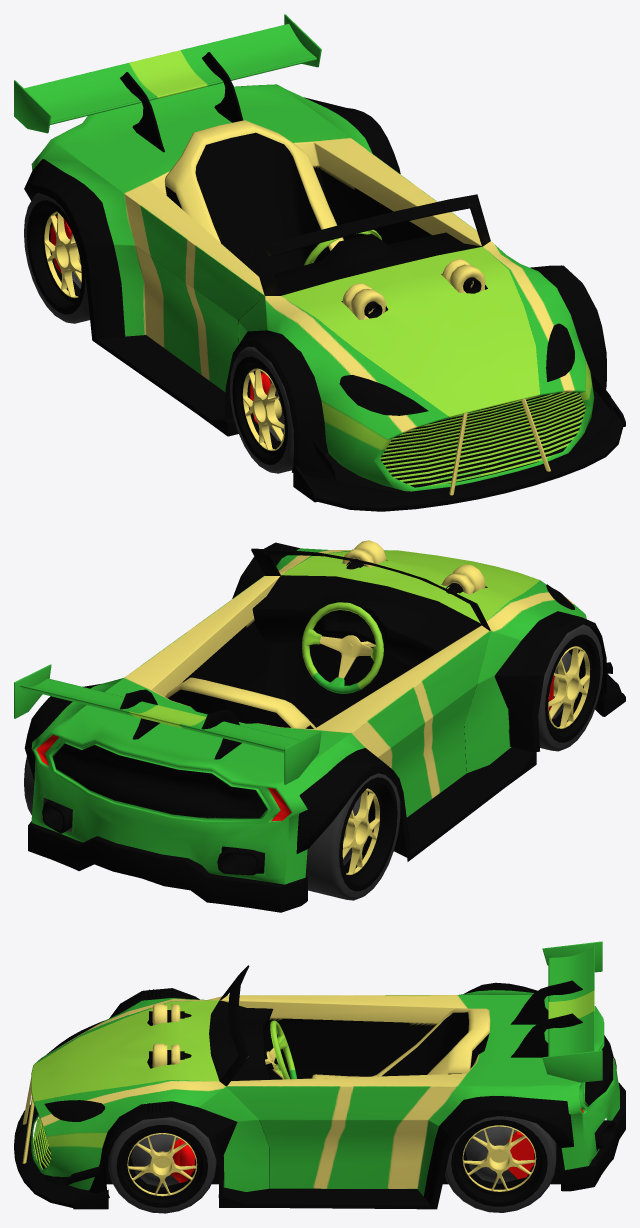
The model's file is Mobil_TimunMas_Fix.fbx.
3 renders of one model, top to bottom at view 1: azimuth 30°, elevation 25°; view 2: azimuth 150°, elevation 25°; view 3: azimuth 270°, elevation 25°, orthographic. The views are drawn at different scales.
Visible parts, largest first — view 1: body.005, hood, fender, seat, Wing, Fender_Kit_Rear, Fender_Kit_Front, Grill, Block_Grill, Front_Lips, fl.001, rr (+8 smaller); view 2: body.005, dasbor.002, body.003, rr, Wing, fender, hood, Fender_Kit_Front, fl.001, Fender_Kit_Rear, side skirt, seat (+5 smaller); view 3: body.005, fender, hood, Wing, rl, fl, Fender_Kit_Rear, seat, Fender_Kit_Front, side skirt, dasbor.002, Front_Lips (+10 smaller).
Part boxes in pixels (left/top/right/bottom): body.005: left=31, top=82, right=481, bottom=392; hood: left=281, top=246, right=539, bottom=417; fender: left=238, top=241, right=594, bottom=491; seat: left=164, top=120, right=343, bottom=276; Wing: left=14, top=14, right=321, bottom=152; Fender_Kit_Rear: left=24, top=97, right=400, bottom=342; Fender_Kit_Front: left=224, top=265, right=606, bottom=480; Grill: left=380, top=392, right=585, bottom=486; Block_Grill: left=380, top=392, right=585, bottom=487; Front_Lips: left=293, top=397, right=625, bottom=511; fl.001: left=230, top=346, right=293, bottom=473; rr: left=24, top=193, right=89, bottom=323; body.005: left=31, top=576, right=490, bottom=884; dasbor.002: left=252, top=575, right=481, bottom=667; body.003: left=28, top=821, right=307, bottom=912; rr: left=305, top=773, right=400, bottom=900; Wing: left=14, top=664, right=321, bottom=784; fender: left=276, top=548, right=586, bottom=772; hood: left=281, top=550, right=539, bottom=623; Fender_Kit_Front: left=232, top=542, right=606, bottom=752; fl.001: left=508, top=624, right=602, bottom=751; Fender_Kit_Rear: left=24, top=683, right=411, bottom=861; side skirt: left=394, top=747, right=536, bottom=858; seat: left=165, top=677, right=315, bottom=728; body.005: left=220, top=990, right=619, bottom=1195; fender: left=31, top=996, right=269, bottom=1191; hood: left=31, top=1000, right=219, bottom=1101; Wing: left=510, top=941, right=602, bottom=1082; rl: left=445, top=1116, right=556, bottom=1212; fl: left=108, top=1117, right=216, bottom=1213; Fender_Kit_Rear: left=423, top=982, right=573, bottom=1209; seat: left=311, top=1008, right=490, bottom=1078; Fender_Kit_Front: left=89, top=988, right=237, bottom=1197; side skirt: left=219, top=1187, right=431, bottom=1209; dasbor.002: left=209, top=1000, right=273, bottom=1080; Front_Lips: left=14, top=1104, right=108, bottom=1209.
Bounding box in the file's own units: 134 × 76.77 × 272.
1 material, 1 textured.
